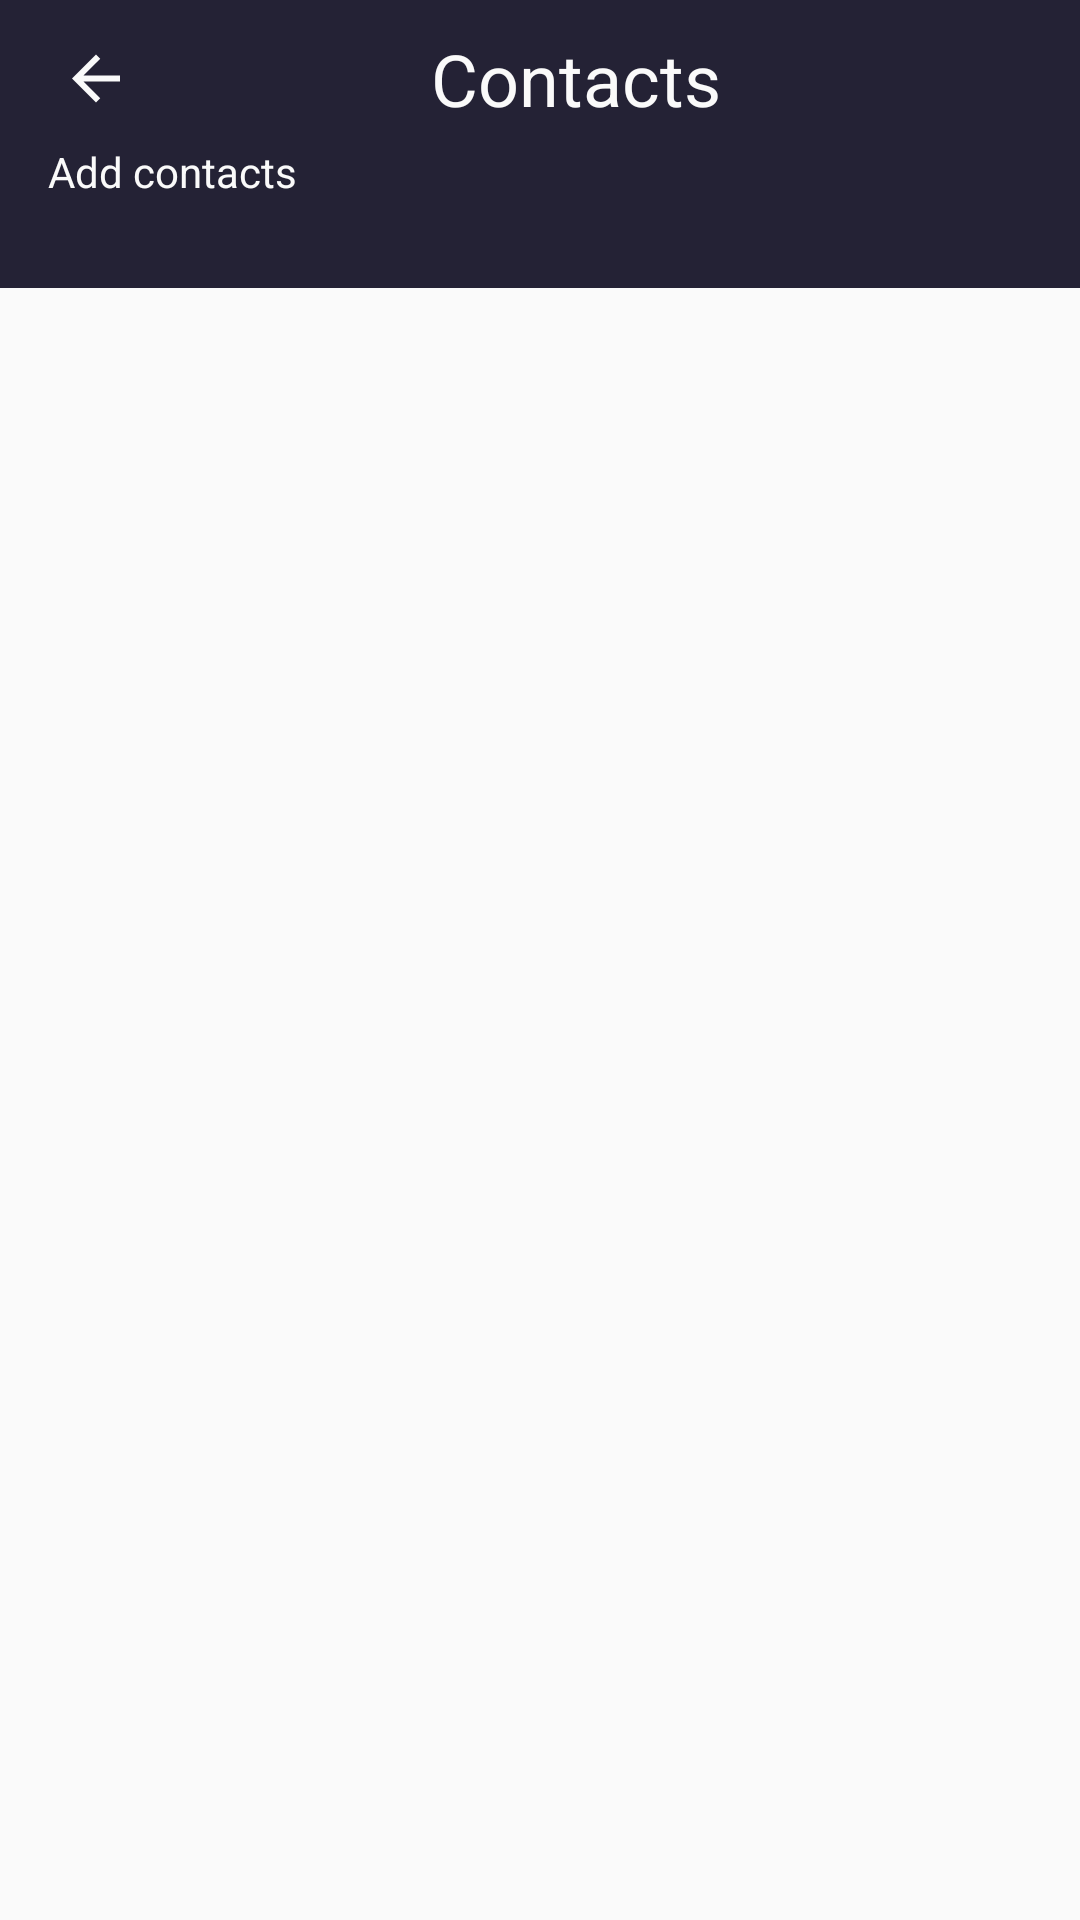

Icons on this 1080*1920 Android screen, each with its box as (x1, y1, x2, y2):
arrow left: (72, 54, 120, 103)
